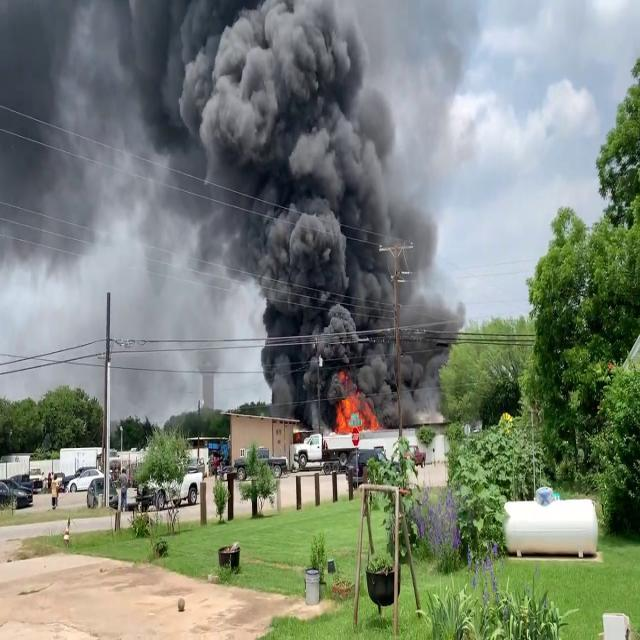Fire: (334, 388, 376, 433)
Smoke: (132, 0, 456, 417), (0, 0, 193, 270)
